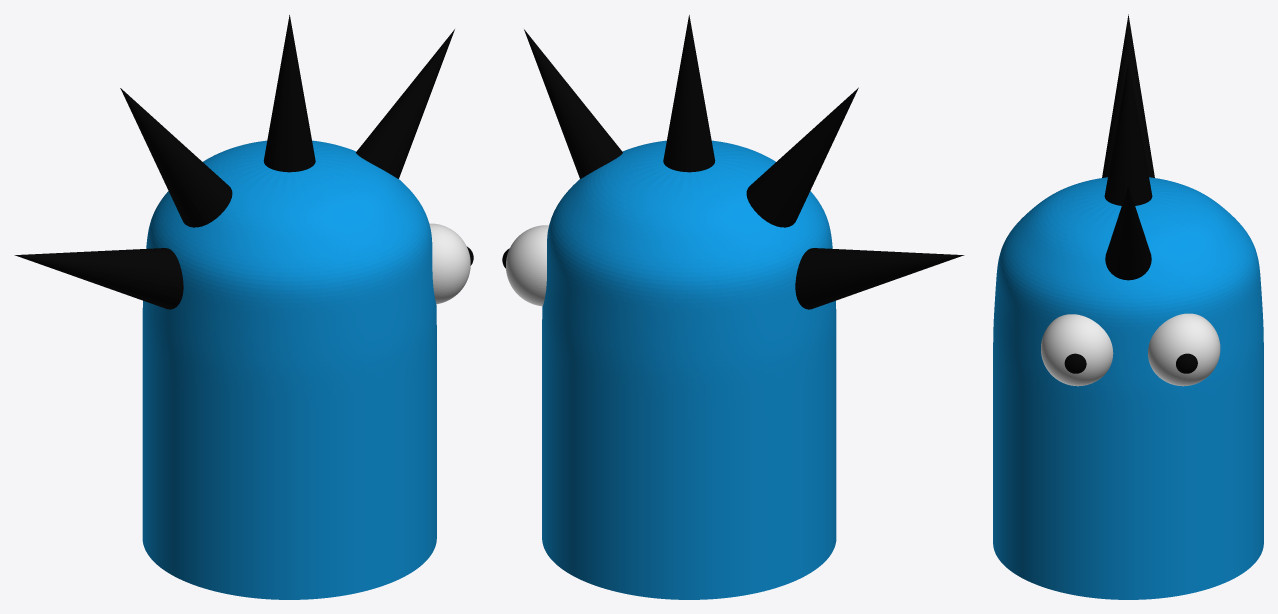
Rendered from fantasma extra 2.fbx.
3 views of the same model, side by side, from view 1: azimuth 30°, elevation 25°; view 2: azimuth 150°, elevation 25°; view 3: azimuth 270°, elevation 25° (orthographic). The views are drawn at different scales.
Visible parts, largest first — view 1: Cylinder, Cone.003, Cone.001, Cone, Cone.002, Sphere; view 2: Cylinder, Cone.003, Cone.001, Cone, Cone.002, Sphere.001; view 3: Cylinder, Sphere.001, Sphere, Cone, Cone.002, Cone.001, Sphere.003, Sphere.002.
Part boxes in pixels (box(x1,y1,x2,y2)): Cylinder: box(142, 140, 436, 599); Cone.003: box(14, 248, 183, 309); Cone.001: box(120, 88, 232, 227); Cone: box(263, 15, 315, 172); Cone.002: box(356, 29, 454, 178); Sphere: box(429, 223, 470, 304); Cylinder: box(542, 140, 836, 599); Cone.003: box(795, 248, 964, 309); Cone.001: box(746, 87, 858, 227); Cone: box(663, 15, 715, 172); Cone.002: box(524, 29, 622, 178); Sphere.001: box(506, 225, 548, 306); Cylinder: box(993, 177, 1263, 599); Sphere.001: box(1148, 313, 1220, 386); Sphere: box(1041, 314, 1113, 386); Cone: box(1104, 61, 1152, 205); Cone.002: box(1105, 186, 1151, 280); Cone.001: box(1102, 14, 1154, 177); Sphere.003: box(1176, 353, 1197, 373); Sphere.002: box(1064, 353, 1086, 373).
Bounding box in the file's own units: 344 × 390 × 199.
